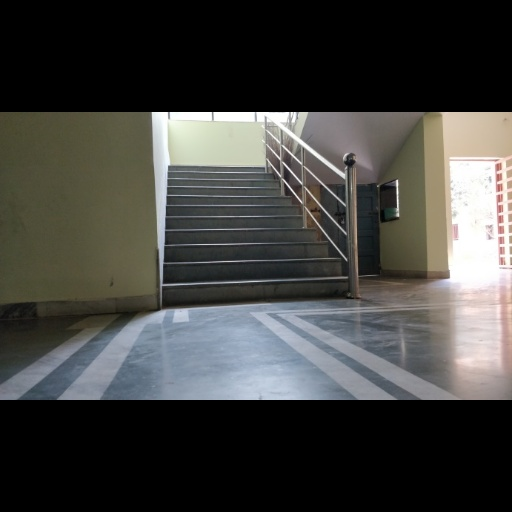Stairs: (165, 166, 347, 305)
